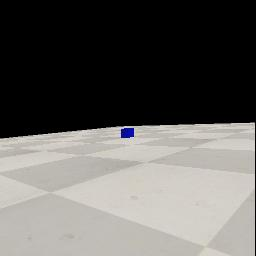box: (121, 128, 134, 138)
